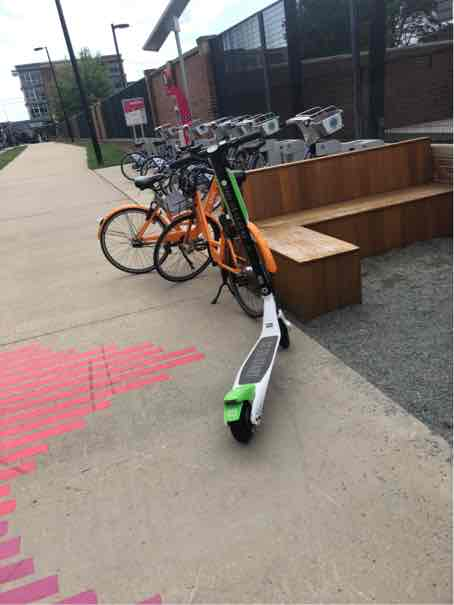scooter: (129, 114, 314, 465)
